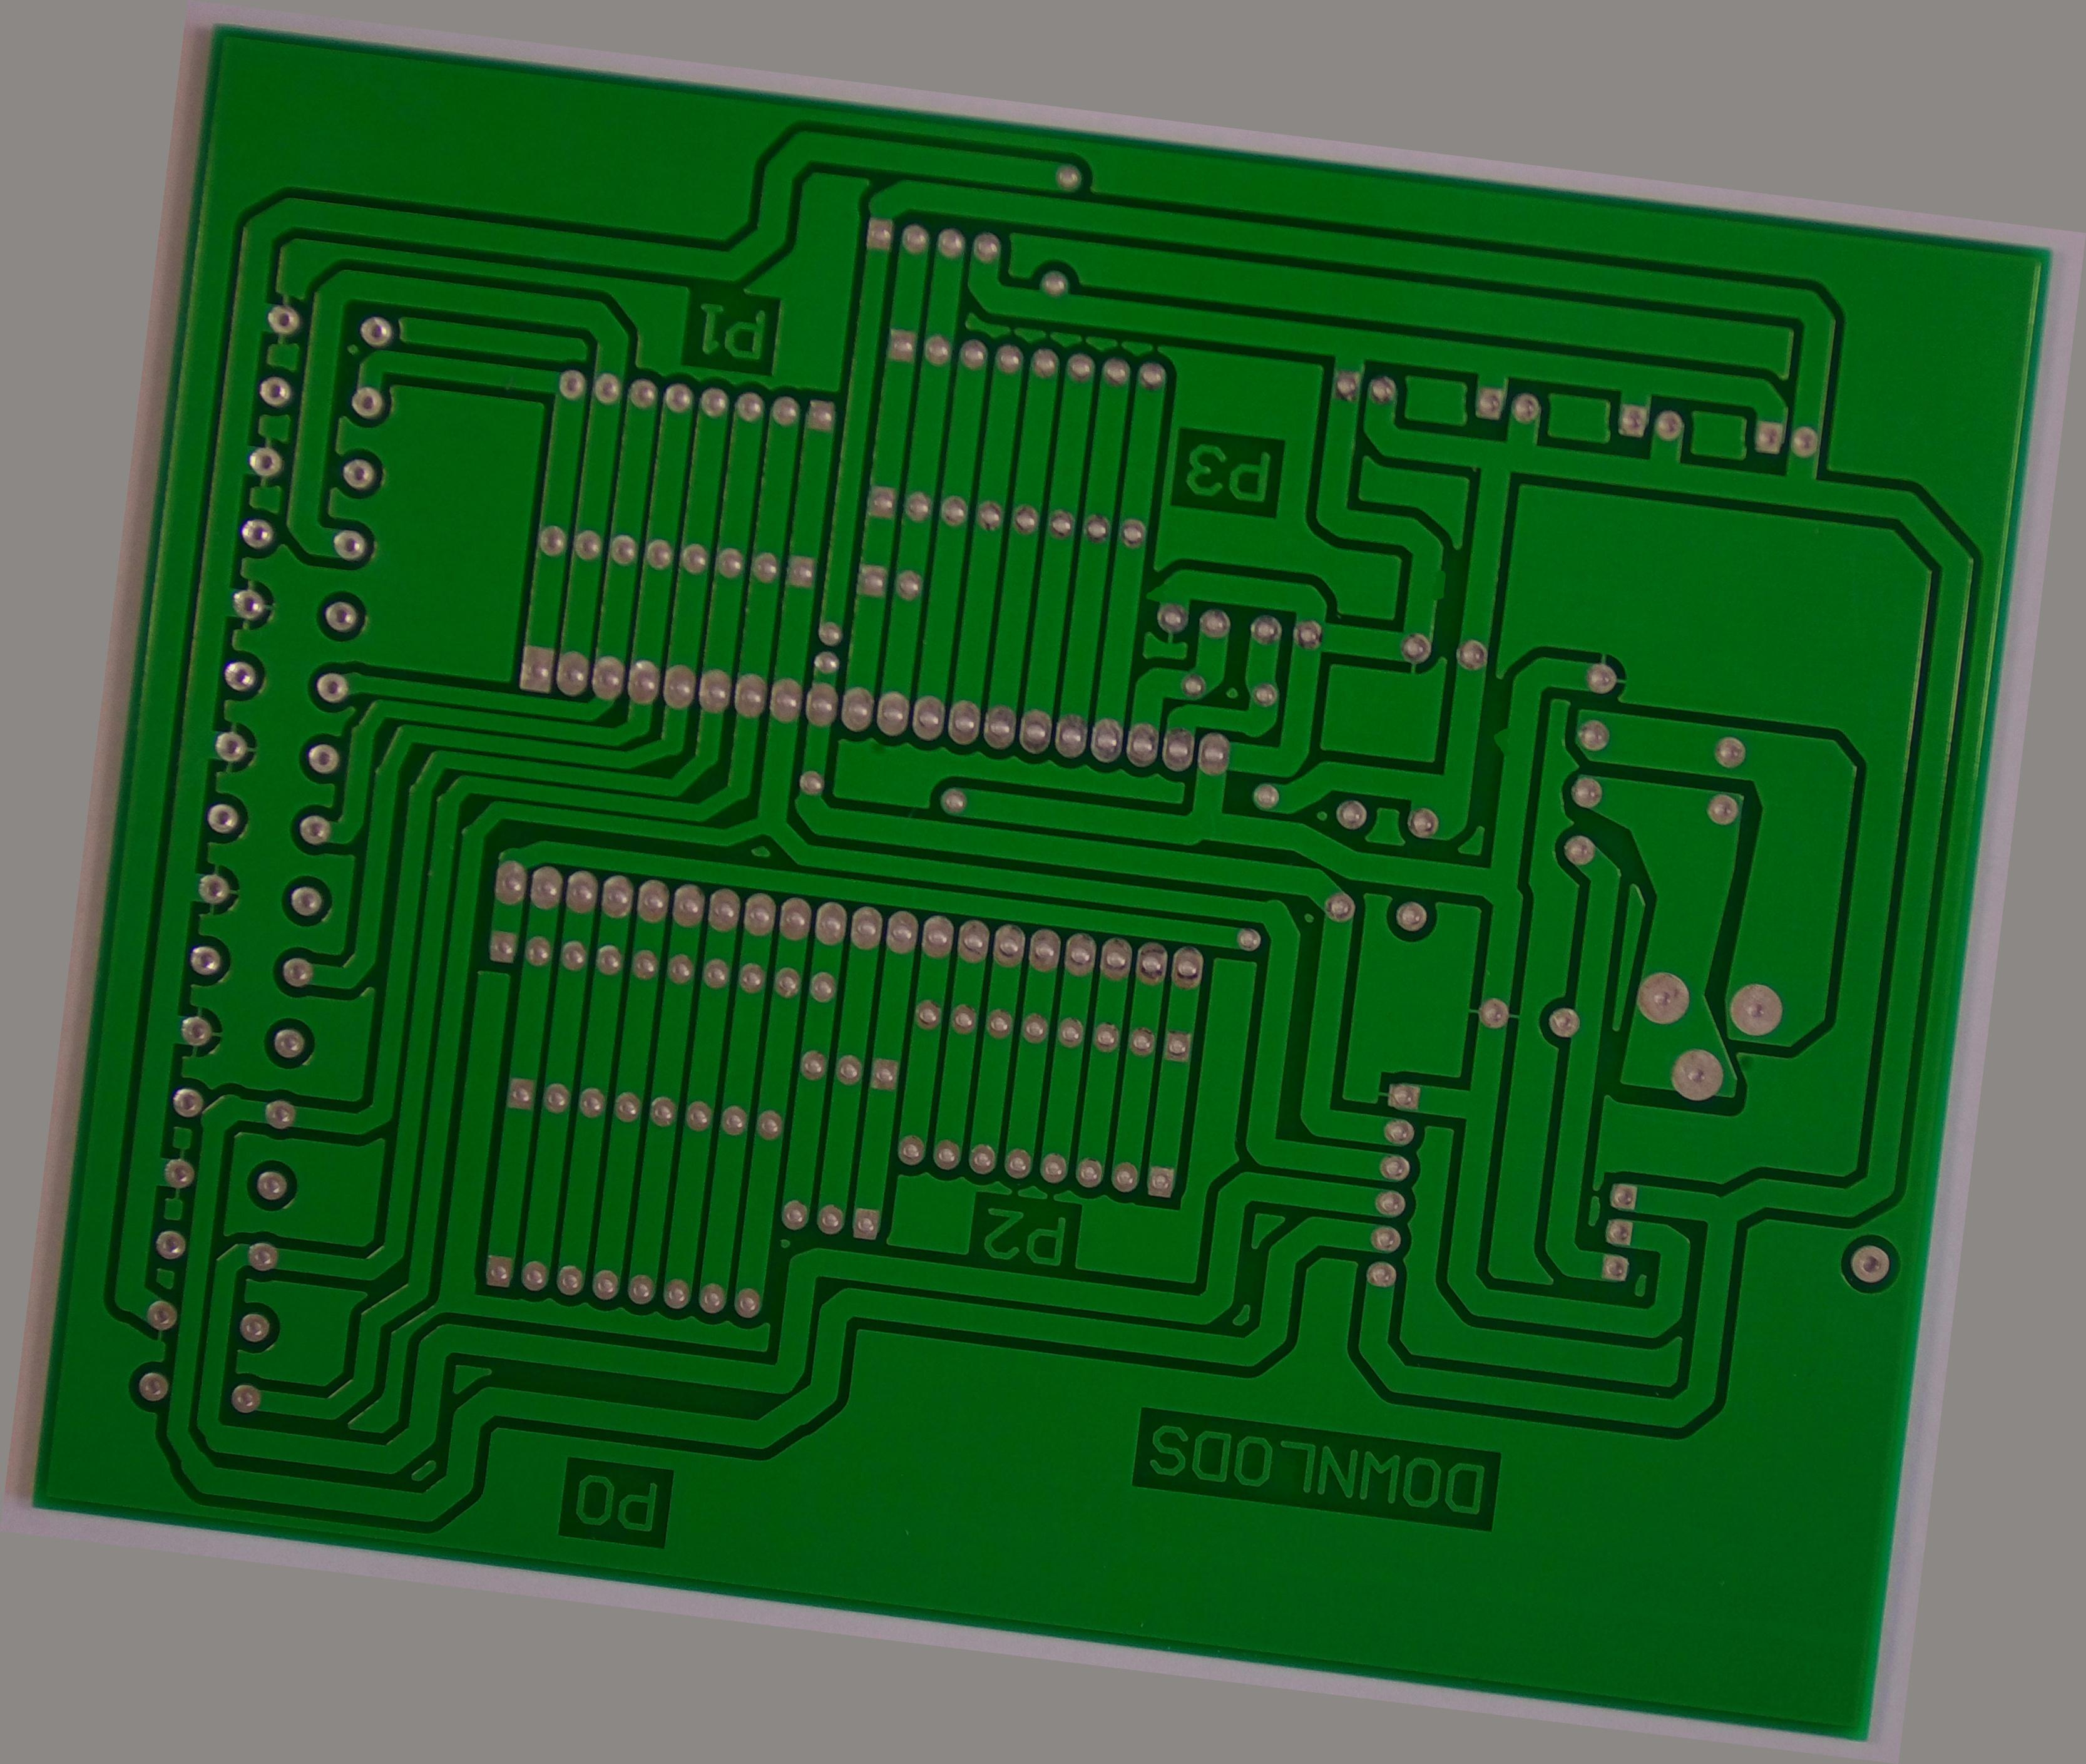spur: (1421, 553, 1458, 612), (1482, 714, 1526, 763), (1143, 572, 1172, 611)
